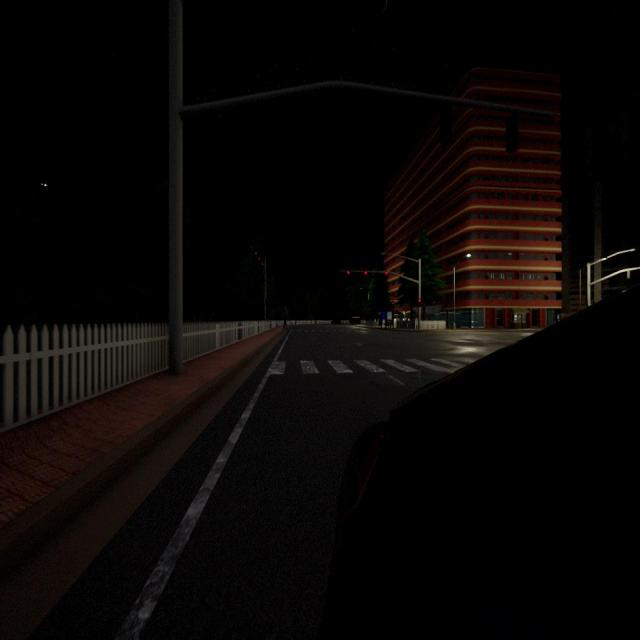Pedestrian: (282, 310, 288, 332)
Vehicle: (324, 281, 640, 640)
traffic_light: (418, 298, 421, 307), (384, 271, 388, 275), (347, 270, 350, 275), (364, 271, 367, 275), (262, 262, 264, 266), (255, 252, 257, 255), (258, 257, 260, 260)
